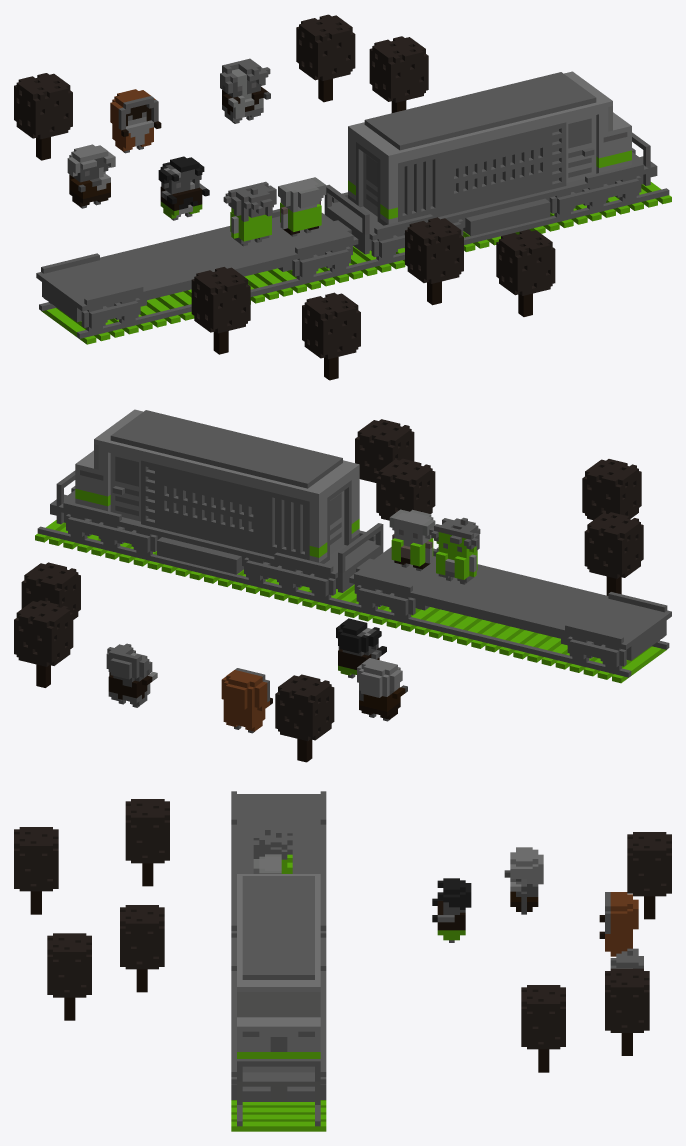
File: scene_zombies.obj
The picture shows the model from 3 angles, top to bottom: view 1: azimuth 30°, elevation 25°; view 2: azimuth 150°, elevation 25°; view 3: azimuth 270°, elevation 25°; orthographic projection. The views are drawn at different scales.
Bounding box in the file's own units: 126 × 24 × 118.
